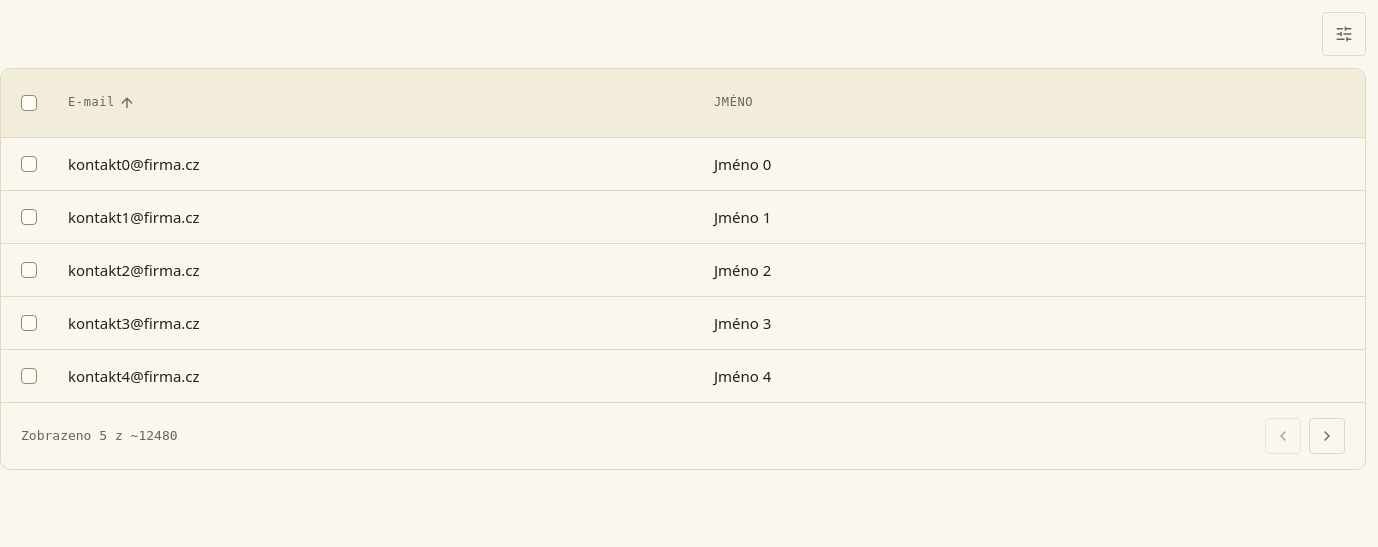
Scenario: DataTable › po výběru na stránce nabídne výběr všeho podle filtru
The width and height of the screenshot is (1378, 547).
Click the checkbox named "Označit všechny řádky na stránce".
click(29, 103)  # box [21,95,37,111]
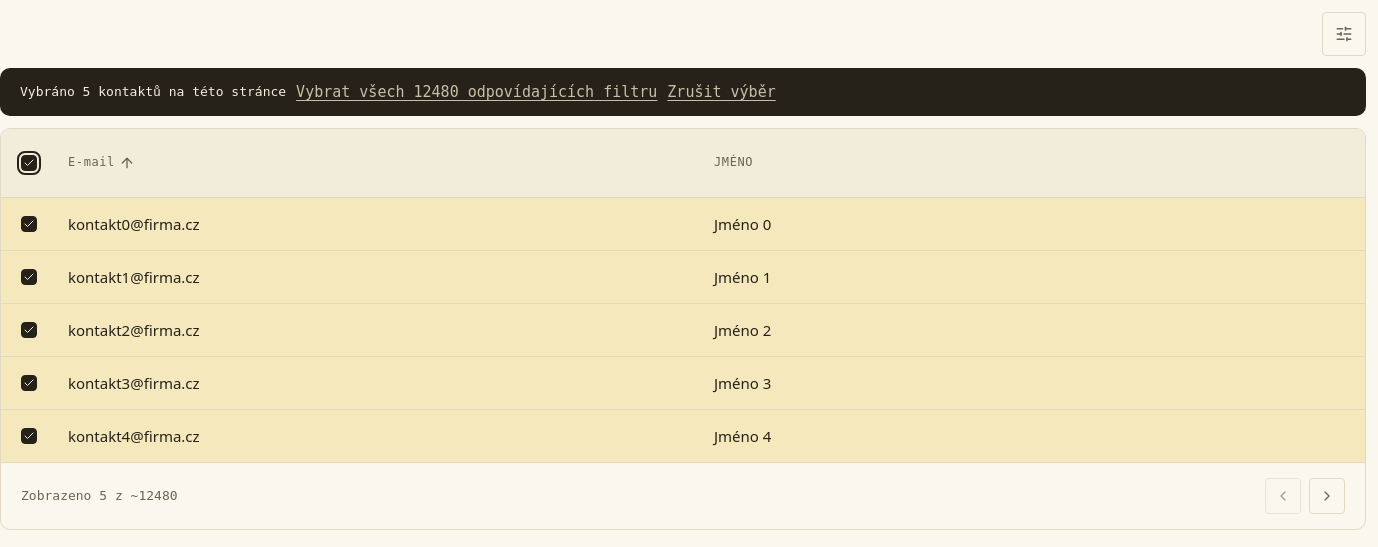
Result: the text "Vybráno 5 kontaktů na této stránce" is shown at [20,82,286,102]
Result: the button "Vybrat všech 12480 odpovídajících filtru" is shown at [296,80,657,104]
